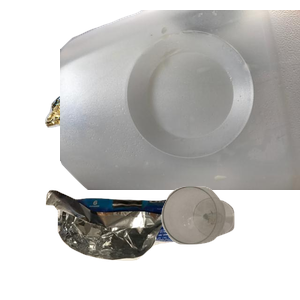glass: (159, 184, 300, 300)
metal: (42, 72, 239, 229)
plastic: (60, 10, 300, 190)
trash: (43, 187, 234, 300)
